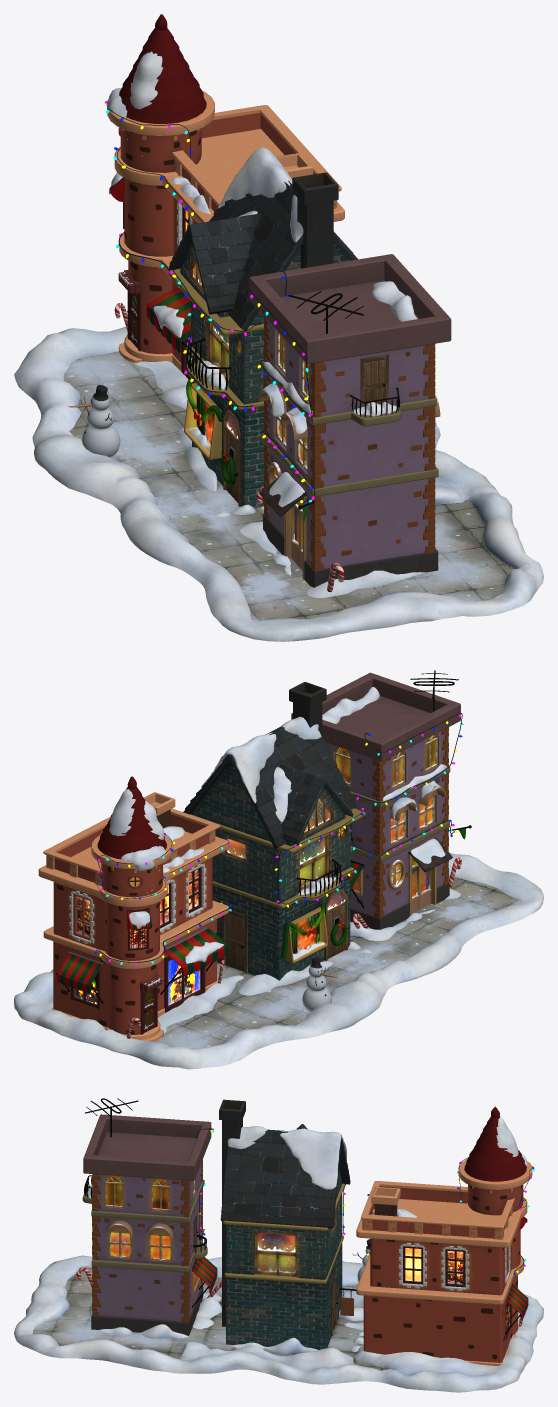
The model's file is tiendas_lev5.glb.
3 renders of one model, top to bottom at view 1: azimuth 30°, elevation 25°; view 2: azimuth 150°, elevation 25°; view 3: azimuth 270°, elevation 25°, orthographic. The views are drawn at different scales.
Parts seen in each view (by area): view 1: snowy_village.1_1; view 2: snowy_village.1_1; view 3: snowy_village.1_1.
Part boxes in pixels (x1=…): snowy_village.1_1: x1=14, y1=14, x2=543, y2=641; snowy_village.1_1: x1=14, y1=670, x2=543, y2=1069; snowy_village.1_1: x1=14, y1=1098, x2=543, y2=1392.
Size of the model in its own units: 50.48 by 41.13 by 85.08.
Materials: 4 (4 with a texture image).
